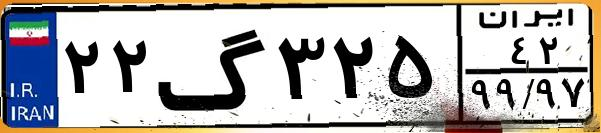2: (330, 28, 385, 110), (57, 26, 110, 100), (110, 28, 156, 98), (537, 27, 568, 80)
3: (270, 28, 330, 110)
4: (508, 27, 537, 80)
5: (385, 28, 445, 110)
7: (560, 70, 590, 125)
9: (470, 70, 495, 125), (495, 70, 520, 125), (535, 70, 560, 125)
گ: (156, 12, 270, 120)
